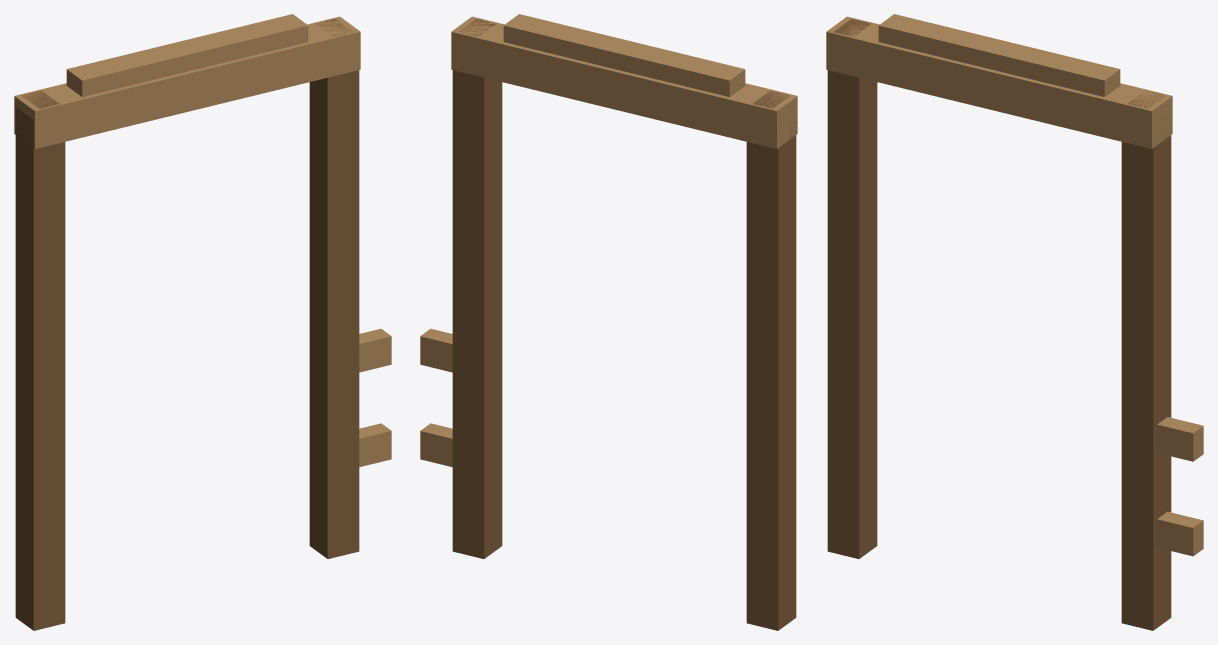
File: TW_WOOD_GATE_FRAME_B_LOD0.glb
3 renders of one model, left to right at view 1: azimuth 30°, elevation 25°; view 2: azimuth 150°, elevation 25°; view 3: azimuth 330°, elevation 25°, orthographic.
Visible parts, largest first — view 1: TW_WOOD_GATE_FRAME_B_LOD0; view 2: TW_WOOD_GATE_FRAME_B_LOD0; view 3: TW_WOOD_GATE_FRAME_B_LOD0.
Part boxes in pixels (x1,y1,x2,y2): TW_WOOD_GATE_FRAME_B_LOD0: (14, 14, 391, 630); TW_WOOD_GATE_FRAME_B_LOD0: (420, 14, 797, 630); TW_WOOD_GATE_FRAME_B_LOD0: (826, 14, 1203, 630).
Bounding box in the file's own units: 1.6 × 2.27 × 0.16.
1 material, 1 textured.
